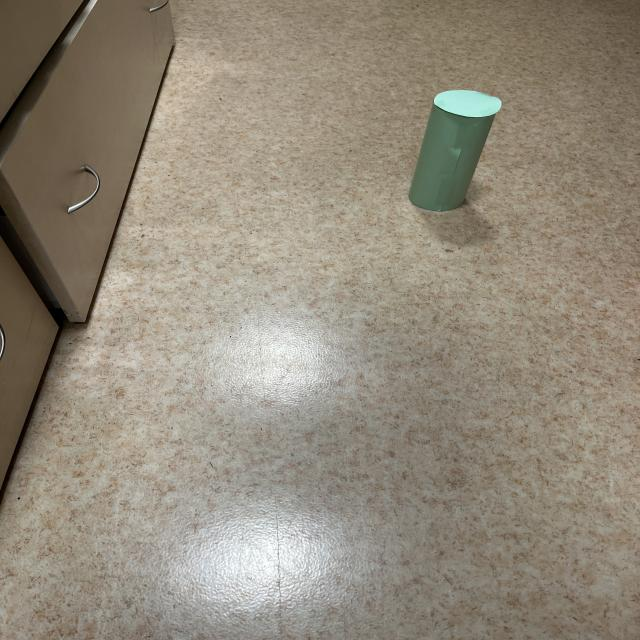meta: (409, 90, 501, 211)
